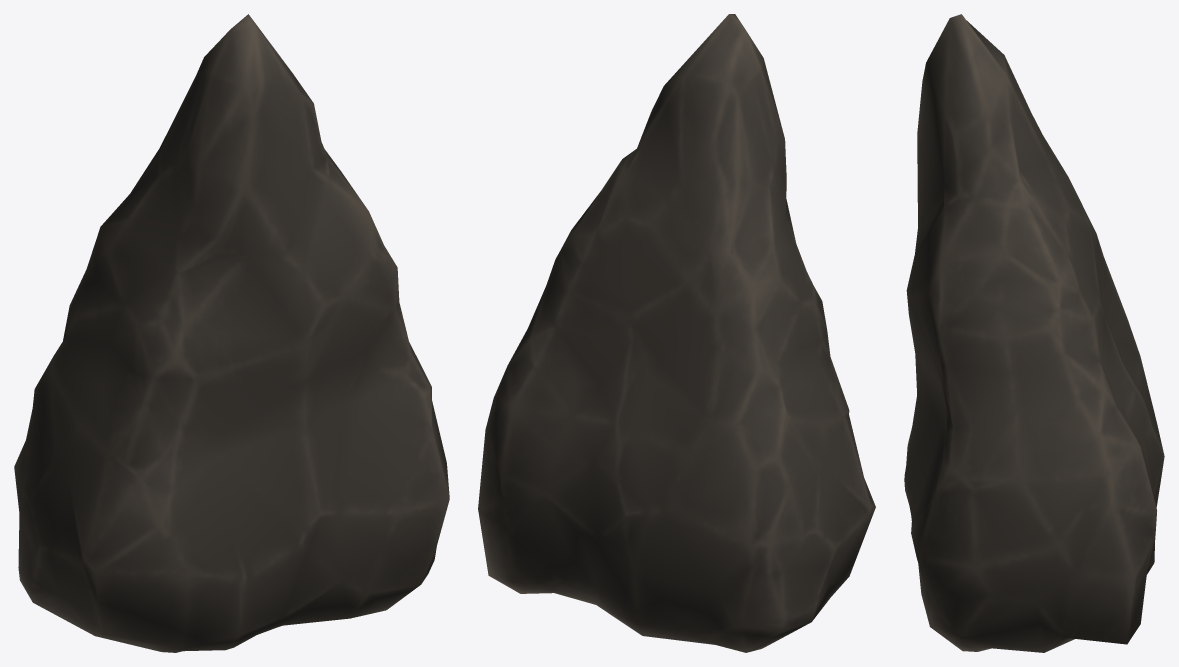
Rendered from IRock_test.fbx.
3 views of the same model, side by side, from view 1: azimuth 30°, elevation 25°; view 2: azimuth 150°, elevation 25°; view 3: azimuth 270°, elevation 25° (orthographic). The views are drawn at different scales.
Parts seen in each view (by area): view 1: MKCave_Rock1_3x5x2_LP.001; view 2: MKCave_Rock1_3x5x2_LP.001; view 3: MKCave_Rock1_3x5x2_LP.001.
Part boxes in pixels (x1=…): MKCave_Rock1_3x5x2_LP.001: x1=14, y1=14, x2=449, y2=652; MKCave_Rock1_3x5x2_LP.001: x1=478, y1=14, x2=875, y2=652; MKCave_Rock1_3x5x2_LP.001: x1=904, y1=14, x2=1164, y2=652.
Bounding box in the file's own units: 3 × 2 × 5.
Materials: 1 (1 with a texture image).
